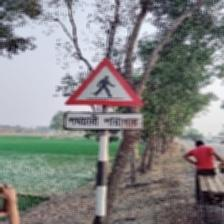Pedestrian-crossing: (63, 57, 144, 133)
